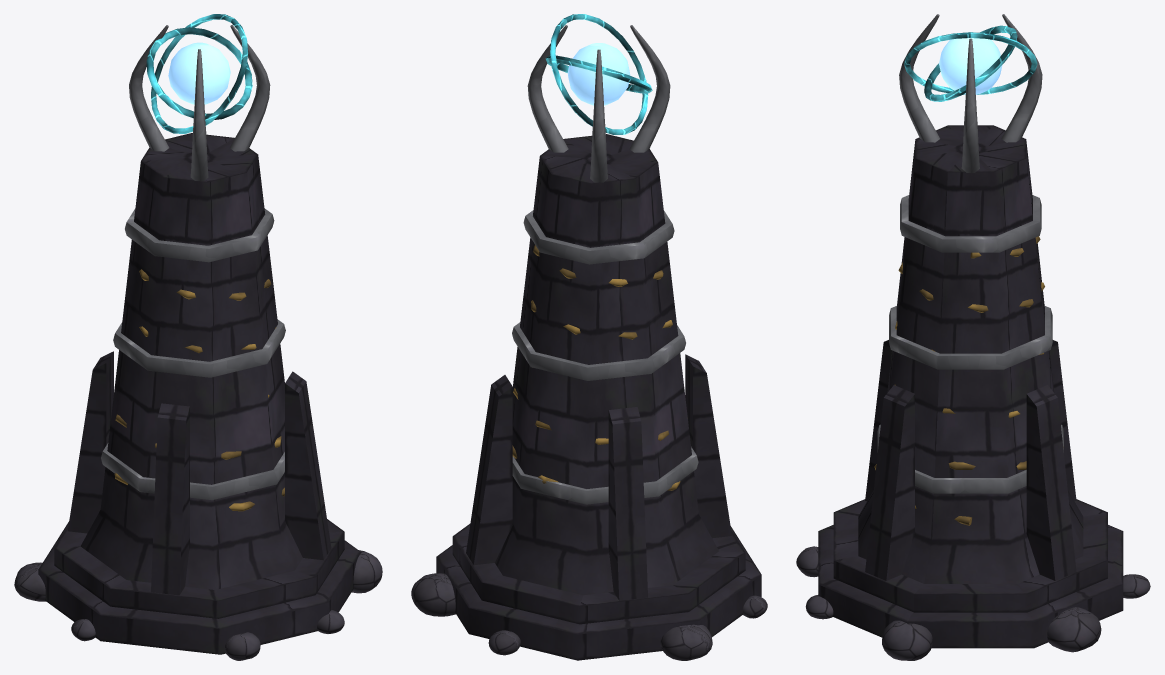
Rendered from storm.glb.
3 views of the same model, side by side, from view 1: azimuth 30°, elevation 25°; view 2: azimuth 150°, elevation 25°; view 3: azimuth 270°, elevation 25° (orthographic).
Parts seen in each view (by area): view 1: Base, Turret; view 2: Base, Turret; view 3: Base, Turret.
Boxes of the visible parts, left/top/right/bottom form: Base: left=14, top=25, right=382, bottom=660; Turret: left=146, top=14, right=252, bottom=133; Base: left=411, top=25, right=767, bottom=660; Turret: left=545, top=14, right=652, bottom=134; Base: left=796, top=14, right=1150, bottom=660; Turret: left=904, top=25, right=1037, bottom=101.
Bounding box in the file's own units: 0.9211 × 1.7 × 0.9445.
Materials: 6 (6 with a texture image).
